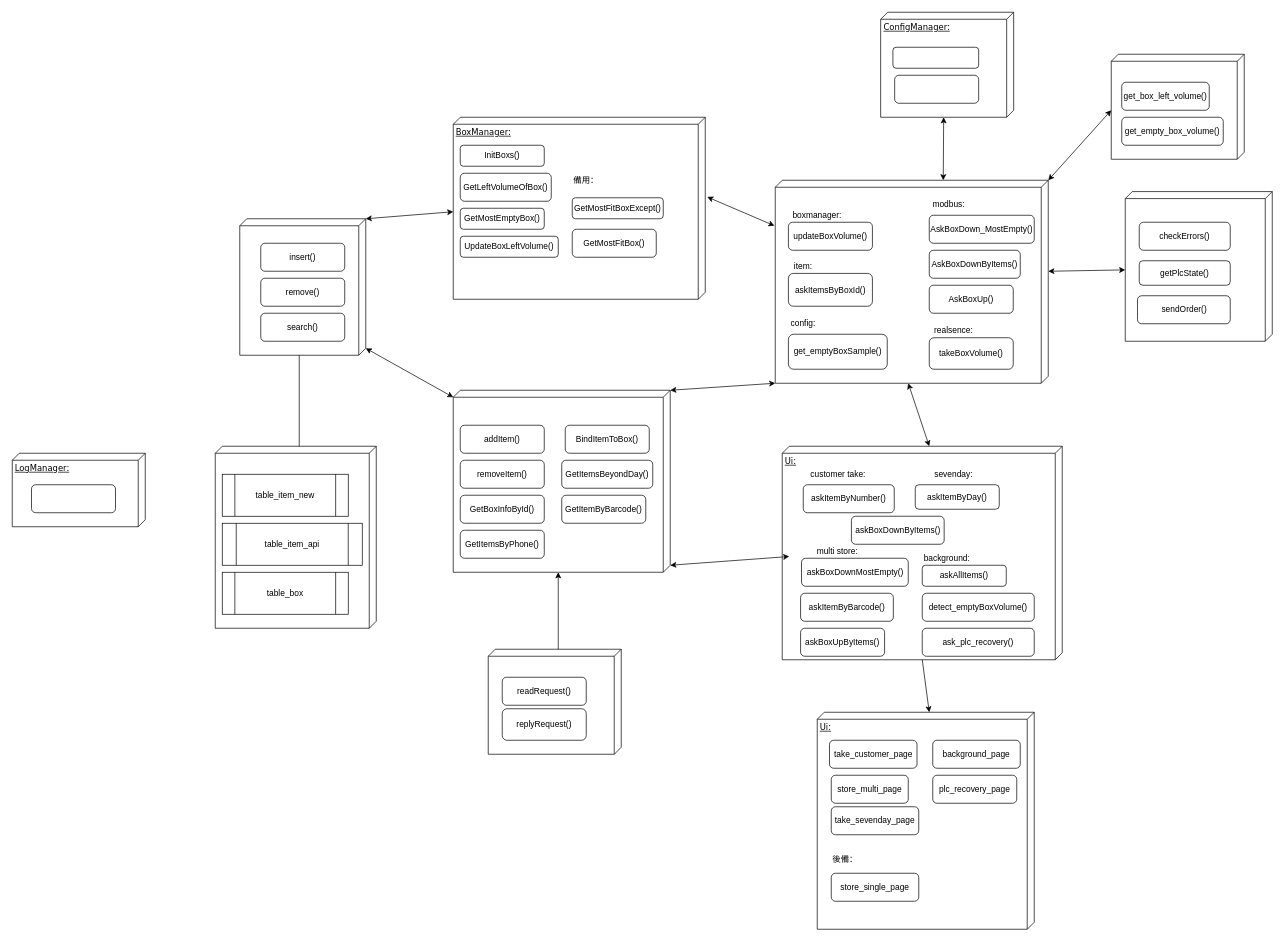
The diagram is 1285 pixels wide and 942 high, and some of its shapes have lost their labels. The shapes that lost their labels are listed below. From the top down, each one's box as (x1, y1, x2, y2) in pixels, then its label:
(892, 47, 979, 68): read_config()
(894, 75, 979, 103): write_config()
(1111, 54, 1244, 159): RealsenseManager:
(775, 180, 1048, 383): JobManager:
(1125, 191, 1272, 341): ModBusManager:
(239, 218, 366, 355): DBManager:
(31, 484, 115, 513): logSysInit()
(453, 390, 670, 572): ItemManager：
(215, 446, 376, 628): DB：
(488, 649, 621, 754): ApiManager:
